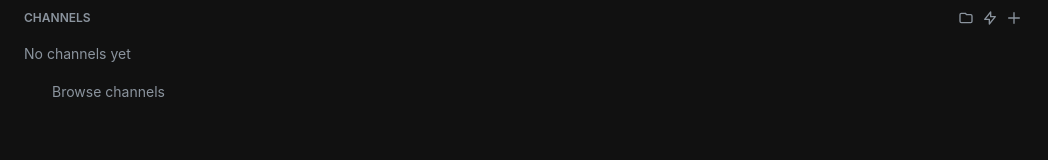
Test: ChannelList › clicking new folder shows folder name input
The width and height of the screenshot is (1048, 160).
Click the button titled "New folder" at (966, 18), box x1=956 y1=8 x2=976 y2=28
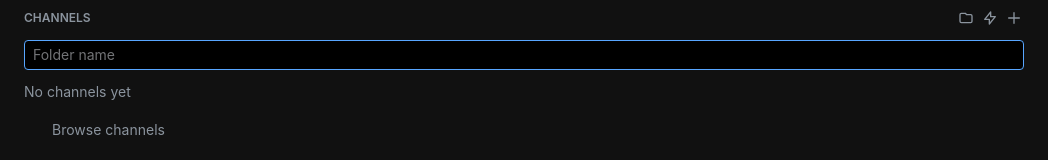
Expected: the field with placeholder "Folder name" is shown, x1=24 y1=40 x2=1024 y2=70
